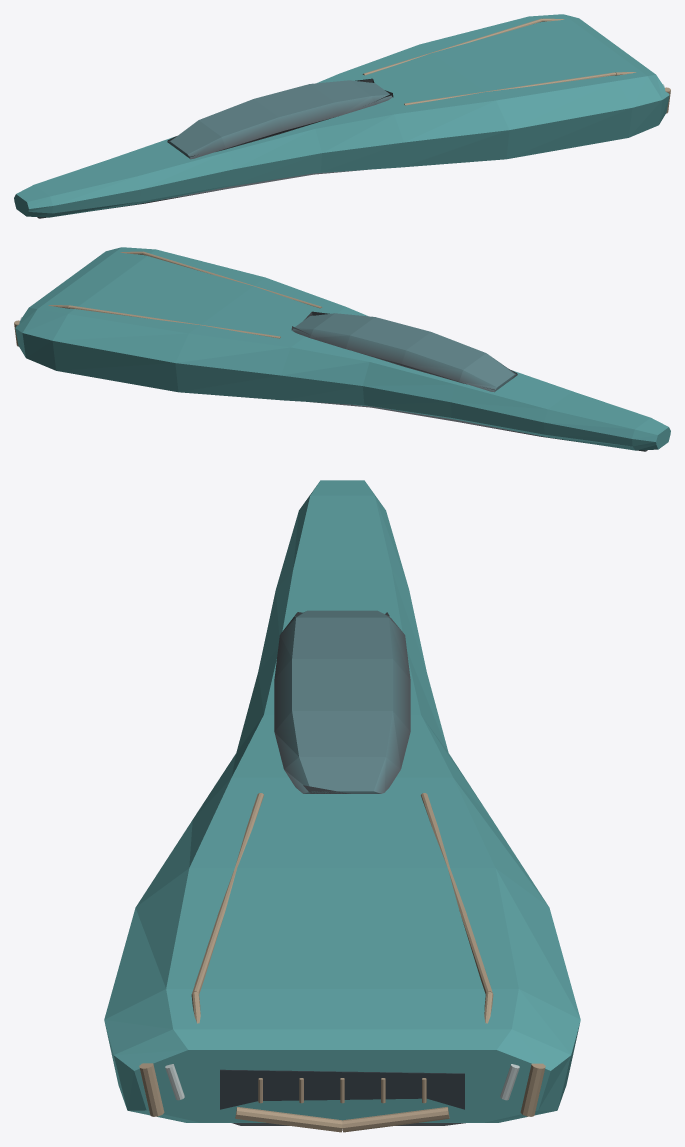
File: jetjet_teal_parked.glb
3 views of the same model, one above another, from view 1: azimuth 30°, elevation 25°; view 2: azimuth 150°, elevation 25°; view 3: azimuth 270°, elevation 25° (orthographic). The views are drawn at different scales.
Visible parts, largest first — view 1: hull_0, cockpit_frame_2, bonnet_edge_3, lower_keel_1; view 2: hull_0, cockpit_frame_2, bonnet_edge_3, lower_keel_1; view 3: hull_0, cockpit_frame_2, front_grille_7, bonnet_edge_3, front_chevron_6, front_corner_4.
Part boxes in pixels (x1=…): hull_0: x1=14, y1=14, x2=669, y2=217; cockpit_frame_2: x1=167, y1=78, x2=393, y2=159; bonnet_edge_3: x1=362, y1=18, x2=636, y2=105; lower_keel_1: x1=37, y1=169, x2=367, y2=218; hull_0: x1=15, y1=247, x2=670, y2=450; cockpit_frame_2: x1=291, y1=311, x2=517, y2=392; bonnet_edge_3: x1=48, y1=251, x2=322, y2=338; lower_keel_1: x1=310, y1=402, x2=647, y2=451; hull_0: x1=104, y1=480, x2=580, y2=1122; cockpit_frame_2: x1=274, y1=610, x2=410, y2=793; front_grille_7: x1=220, y1=1069, x2=464, y2=1109; bonnet_edge_3: x1=191, y1=793, x2=493, y2=1023; front_chevron_6: x1=235, y1=1107, x2=449, y2=1132; front_corner_4: x1=139, y1=1063, x2=545, y2=1116.
Bounding box in the file's own units: 10.17 × 1.23 × 3.5.
